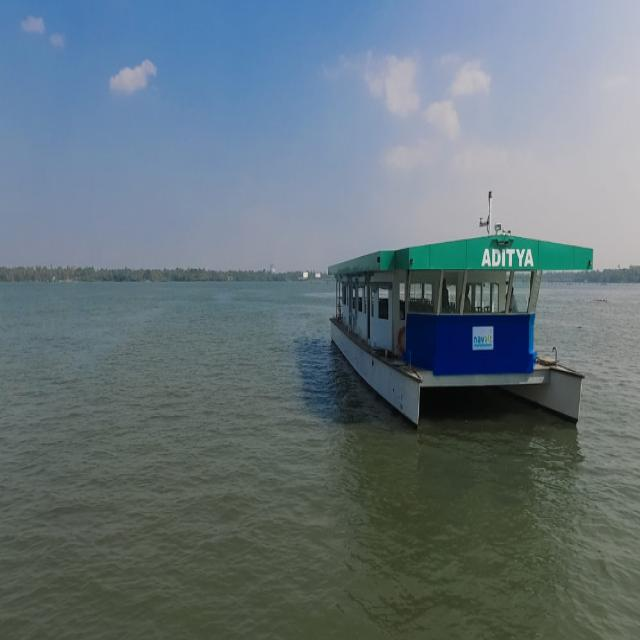houseboat: (323, 186, 597, 444)
